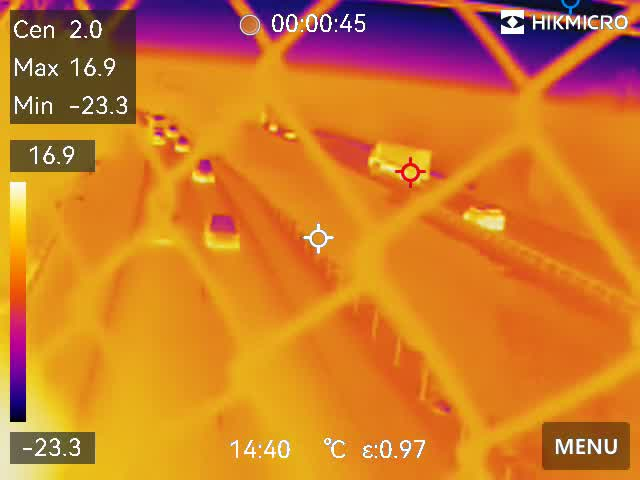heavyTruck: (371, 139, 435, 184)
vehicle: (203, 210, 243, 250), (463, 201, 508, 232), (190, 154, 217, 184), (171, 133, 192, 155), (150, 129, 169, 146), (148, 112, 168, 127), (163, 123, 180, 134)
